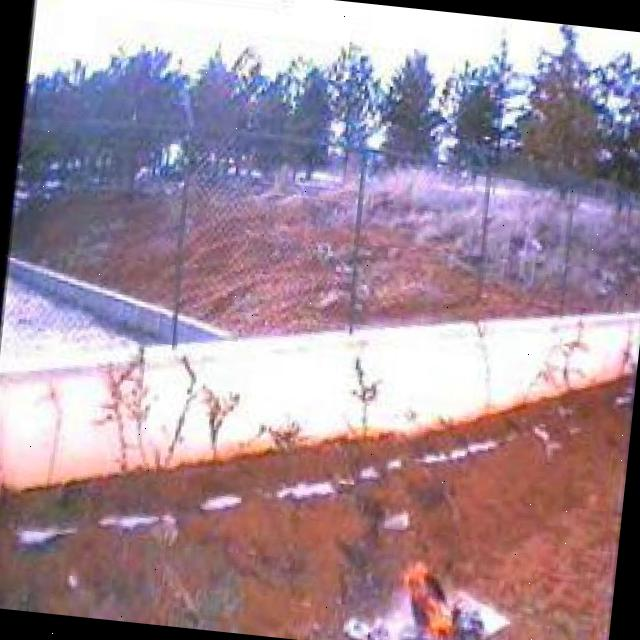fire: (388, 551, 485, 640)
